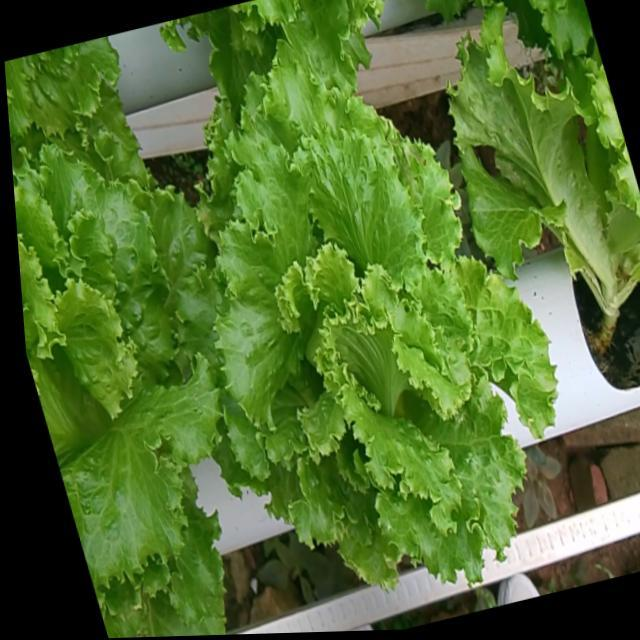Mature: (192, 76, 550, 595), (14, 156, 217, 603)
